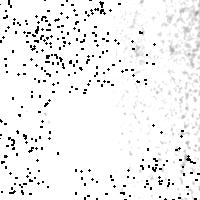pitted_surface: (103, 1, 199, 194), (27, 1, 101, 115), (0, 15, 57, 74), (30, 37, 89, 92), (94, 31, 153, 84), (46, 8, 103, 62), (3, 137, 57, 192), (140, 124, 190, 183), (0, 95, 49, 150), (142, 158, 200, 200), (60, 0, 118, 40), (0, 0, 55, 40), (73, 169, 133, 200), (0, 155, 34, 200)
